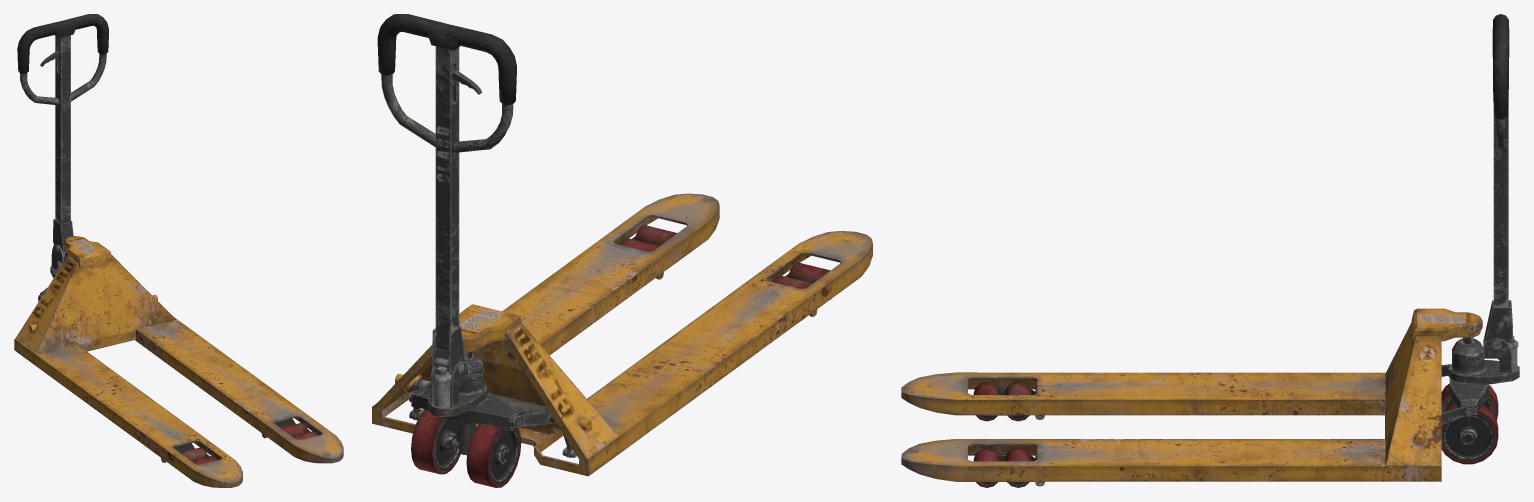
The model's file is transpallet.glb.
3 views of the same model, side by side, from view 1: azimuth 30°, elevation 25°; view 2: azimuth 150°, elevation 25°; view 3: azimuth 270°, elevation 25° (orthographic). The views are drawn at different scales.
Visible parts, largest first — view 1: TRANSPALLET_0; view 2: TRANSPALLET_0; view 3: TRANSPALLET_0.
Part boxes in pixels (left/top/right/bottom): TRANSPALLET_0: left=14, top=14, right=343, bottom=487; TRANSPALLET_0: left=372, top=14, right=872, bottom=487; TRANSPALLET_0: left=901, top=14, right=1519, bottom=487.
Size of the model in its own units: 0.6168 by 1.26 by 1.71.
Materials: 1 (1 with a texture image).
